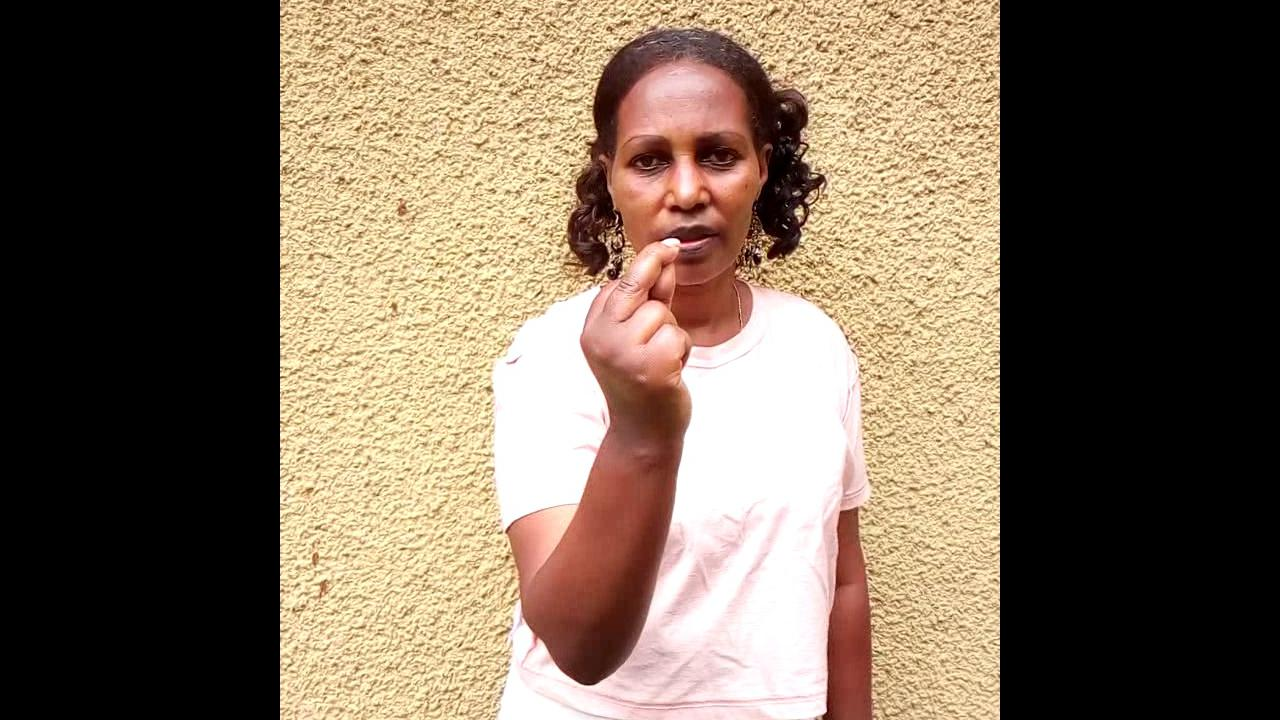CHE: (576, 233, 695, 535)
